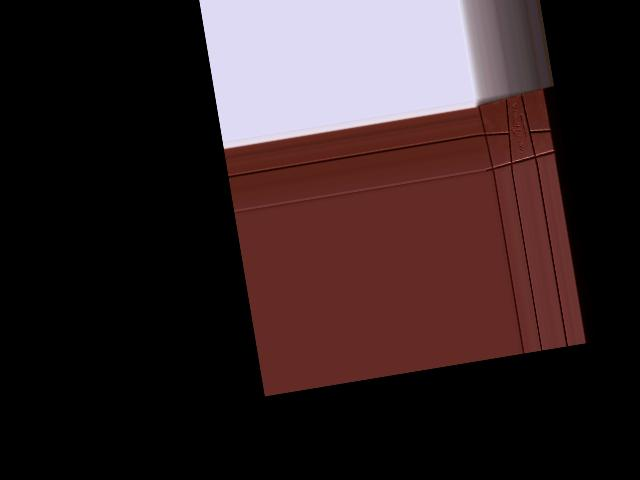chocolate: (474, 86, 560, 175)
